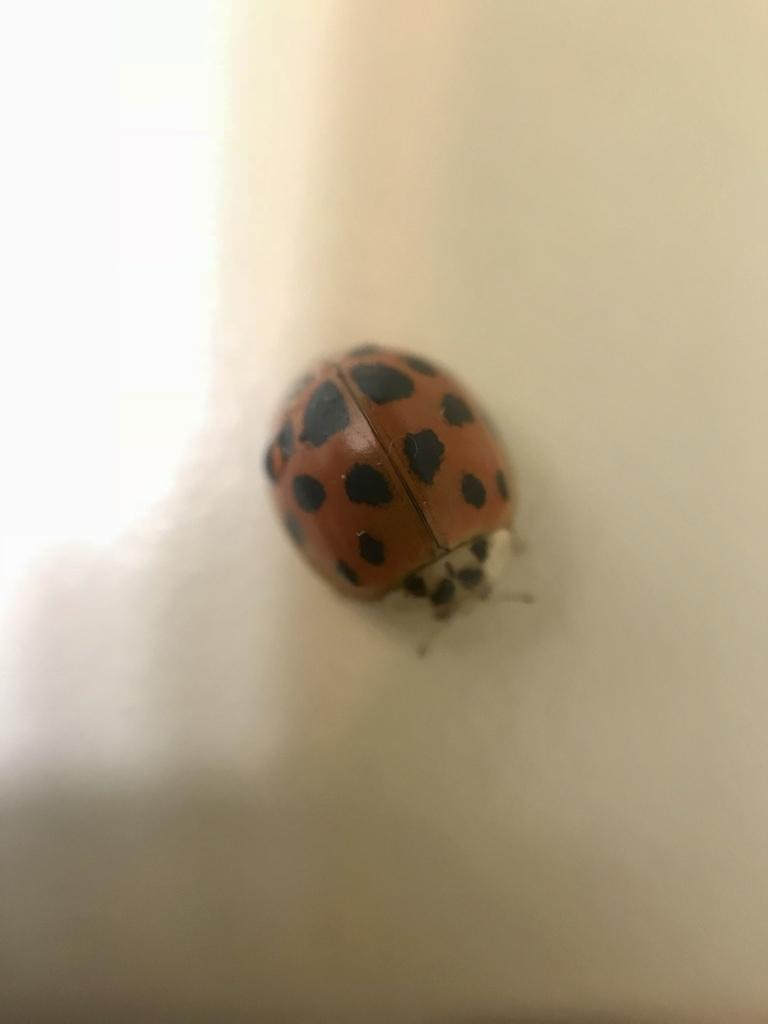ladybug: (259, 336, 546, 666)
